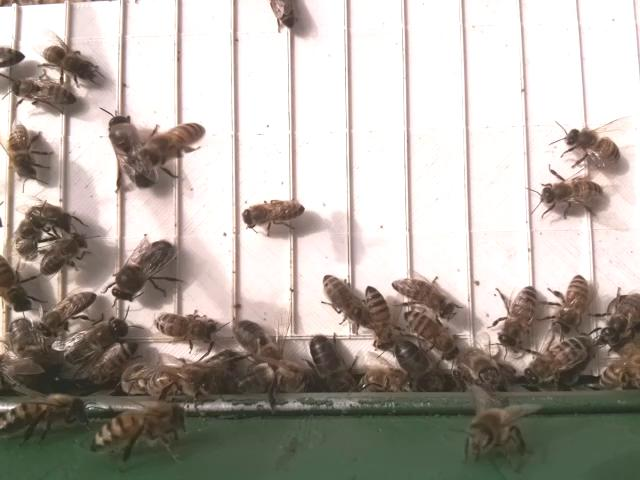Drone: (109, 238, 179, 303), (105, 111, 157, 191), (306, 331, 354, 396), (230, 316, 286, 371)
Worker: (391, 275, 461, 321), (495, 284, 540, 353), (237, 195, 310, 235), (536, 175, 609, 215), (562, 124, 624, 171), (140, 123, 209, 165), (38, 289, 99, 335), (408, 309, 463, 360), (320, 271, 367, 329), (551, 271, 592, 336), (9, 78, 79, 114), (5, 120, 45, 183), (41, 41, 100, 83), (362, 286, 398, 354), (37, 236, 92, 279), (153, 310, 220, 344)
